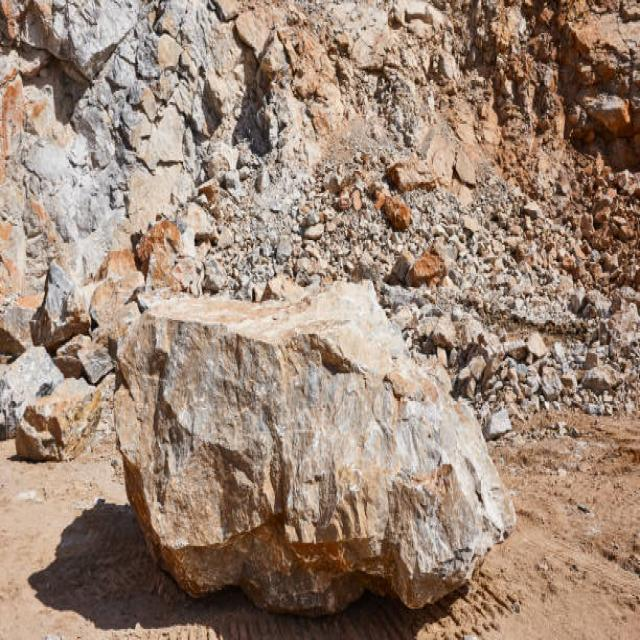Sedimentary: (100, 264, 532, 606)
